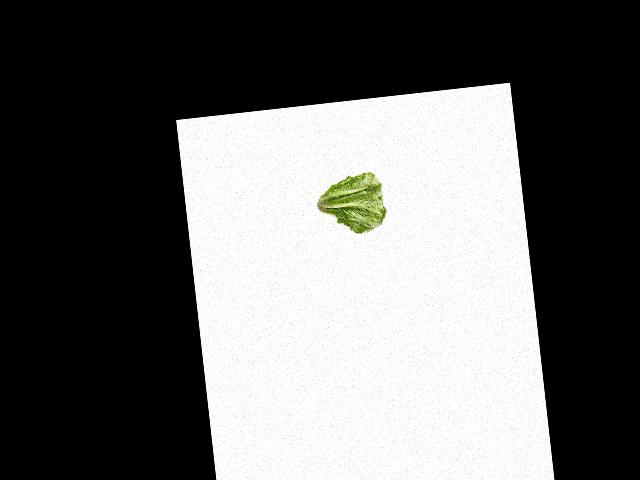lettuce: (311, 173, 390, 240)
